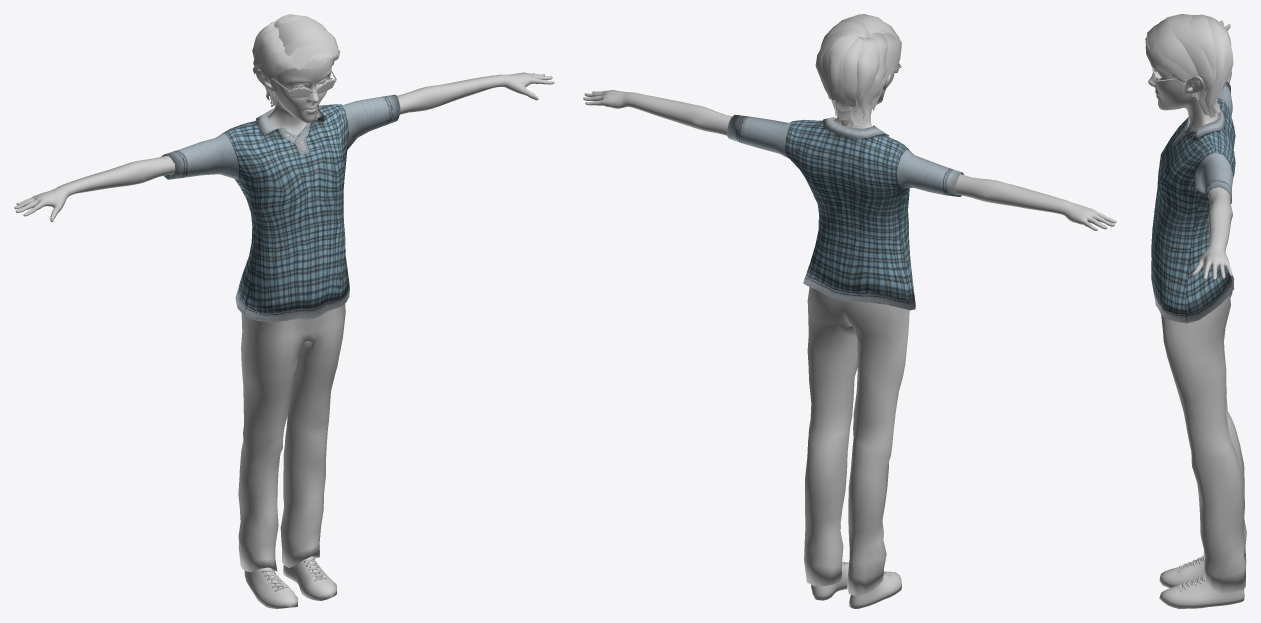
File: Nerd 2.obj
The picture shows the model from 3 angles, left to right: view 1: azimuth 30°, elevation 25°; view 2: azimuth 150°, elevation 25°; view 3: azimuth 270°, elevation 25°; orthographic projection.
Parts seen in each view (by area): view 1: Tops, Bottoms, Body, Hair, Shoes; view 2: Bottoms, Tops, Hair, Body, Shoes; view 3: Bottoms, Tops, Hair, Body, Shoes.
Part boxes in pixels (bbox=[...]): Tops: bbox=[161, 94, 400, 322]; Bottoms: bbox=[238, 303, 345, 572]; Body: bbox=[14, 58, 554, 221]; Hair: bbox=[252, 14, 339, 106]; Shoes: bbox=[244, 556, 336, 608]; Bottoms: bbox=[804, 287, 909, 596]; Tops: bbox=[727, 115, 963, 310]; Hair: bbox=[815, 14, 901, 127]; Body: bbox=[583, 71, 1116, 230]; Shoes: bbox=[811, 561, 901, 608]; Bottoms: bbox=[1161, 292, 1246, 593]; Tops: bbox=[1151, 81, 1235, 323]; Hair: bbox=[1145, 14, 1233, 117]; Body: bbox=[1145, 20, 1232, 280]; Shoes: bbox=[1159, 555, 1244, 608].
Size of the model in its own units: 163 by 167 by 26.73.
